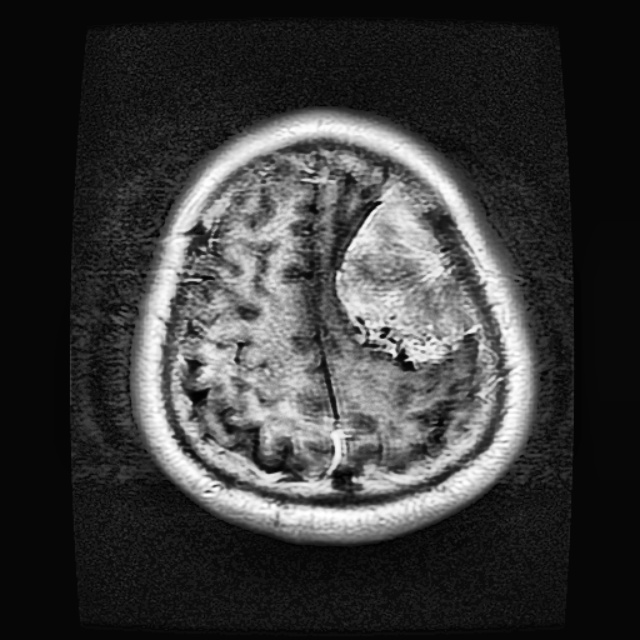Pituitary: (337, 183, 484, 365)
